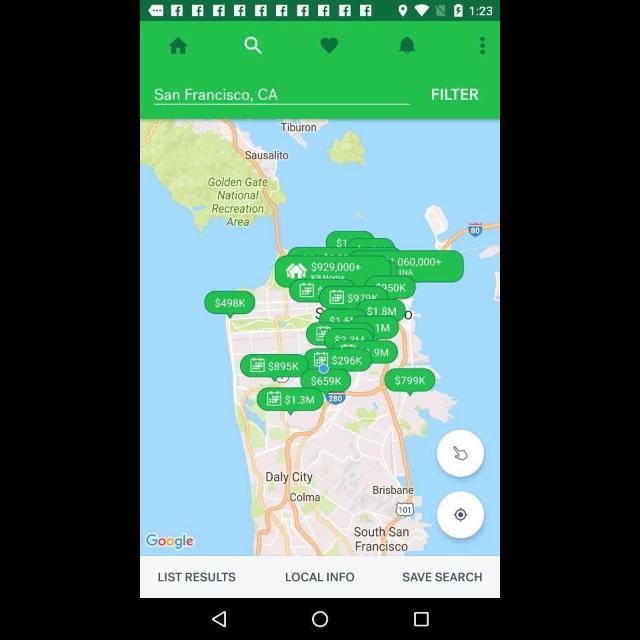icon: (242, 36, 264, 54), (310, 610, 330, 628), (168, 36, 188, 54), (397, 36, 417, 54), (412, 610, 430, 628), (320, 37, 338, 54), (212, 611, 228, 629), (478, 36, 486, 56)
map: (140, 119, 500, 557)
multitab: (141, 23, 499, 71), (140, 558, 500, 598)
panel: (140, 599, 500, 639)
text: (153, 87, 279, 103)
textbutton: (430, 86, 480, 102)
uppertaskbar: (142, 2, 498, 20)
